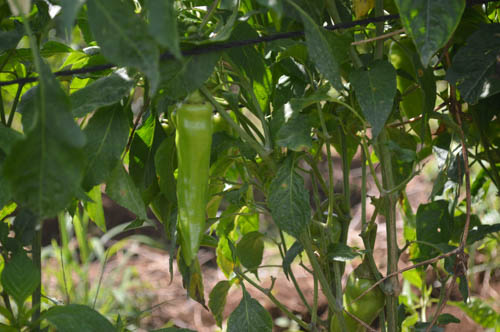ChiliPepper: (173, 104, 213, 264), (390, 43, 431, 130), (329, 275, 388, 327)
